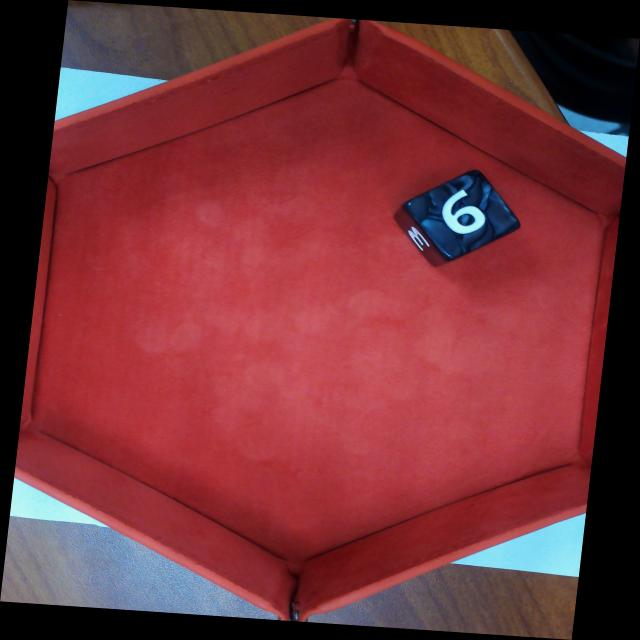dice: (402, 169, 522, 260)
